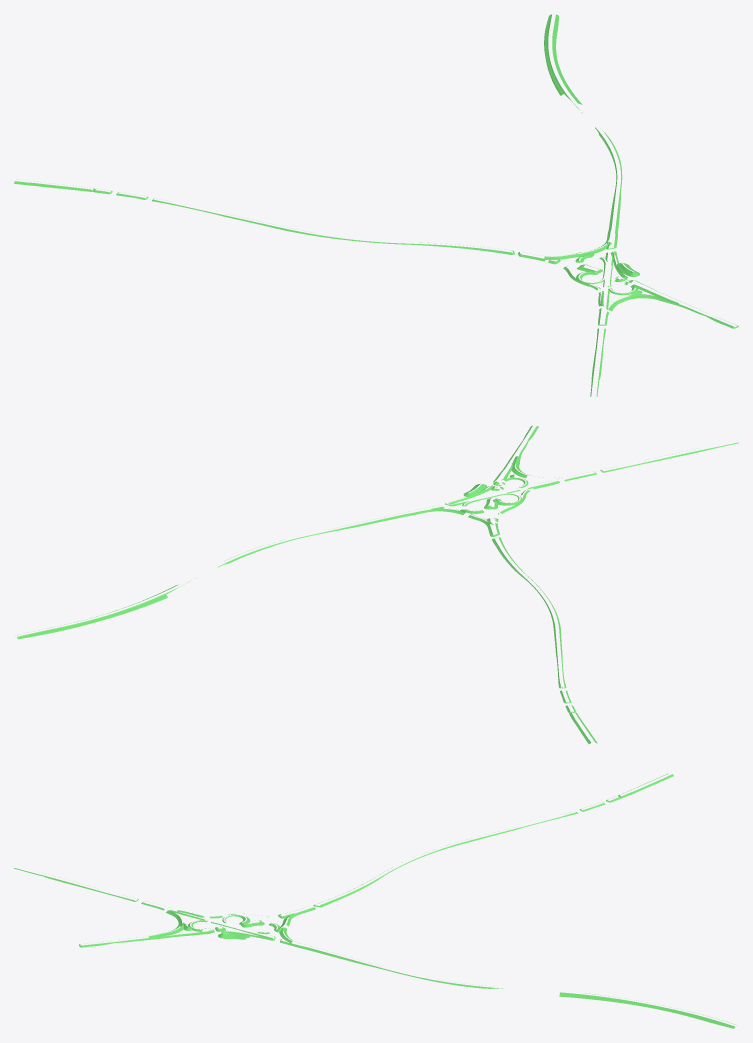
Rendered from fillMerge_kd.glb.
The picture shows the model from 3 angles, top to bottom: view 1: azimuth 30°, elevation 25°; view 2: azimuth 150°, elevation 25°; view 3: azimuth 270°, elevation 25°; orthographic projection. The views are drawn at different scales.
Parts seen in each view (by area): view 1: 성토; view 2: 성토; view 3: 성토.
Part boxes in pixels (x1,y1,x2,y2): 성토: (14, 14, 738, 396); 성토: (17, 425, 738, 743); 성토: (14, 773, 736, 1028).
Bounding box in the file's own units: 4165 × 25.55 × 5014.
